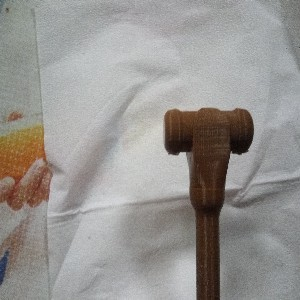palu: (163, 107, 254, 300)
